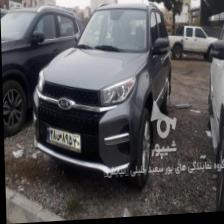plate: (44, 125, 81, 152)
